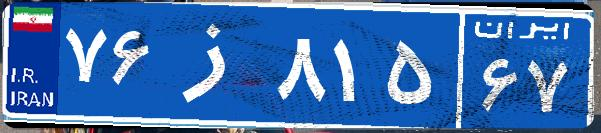1: (330, 28, 385, 110)
5: (385, 28, 445, 110)
6: (475, 38, 525, 113), (110, 28, 158, 105)
7: (57, 26, 110, 107), (525, 38, 570, 115)
8: (273, 28, 330, 110)
ز: (158, 15, 273, 115)
